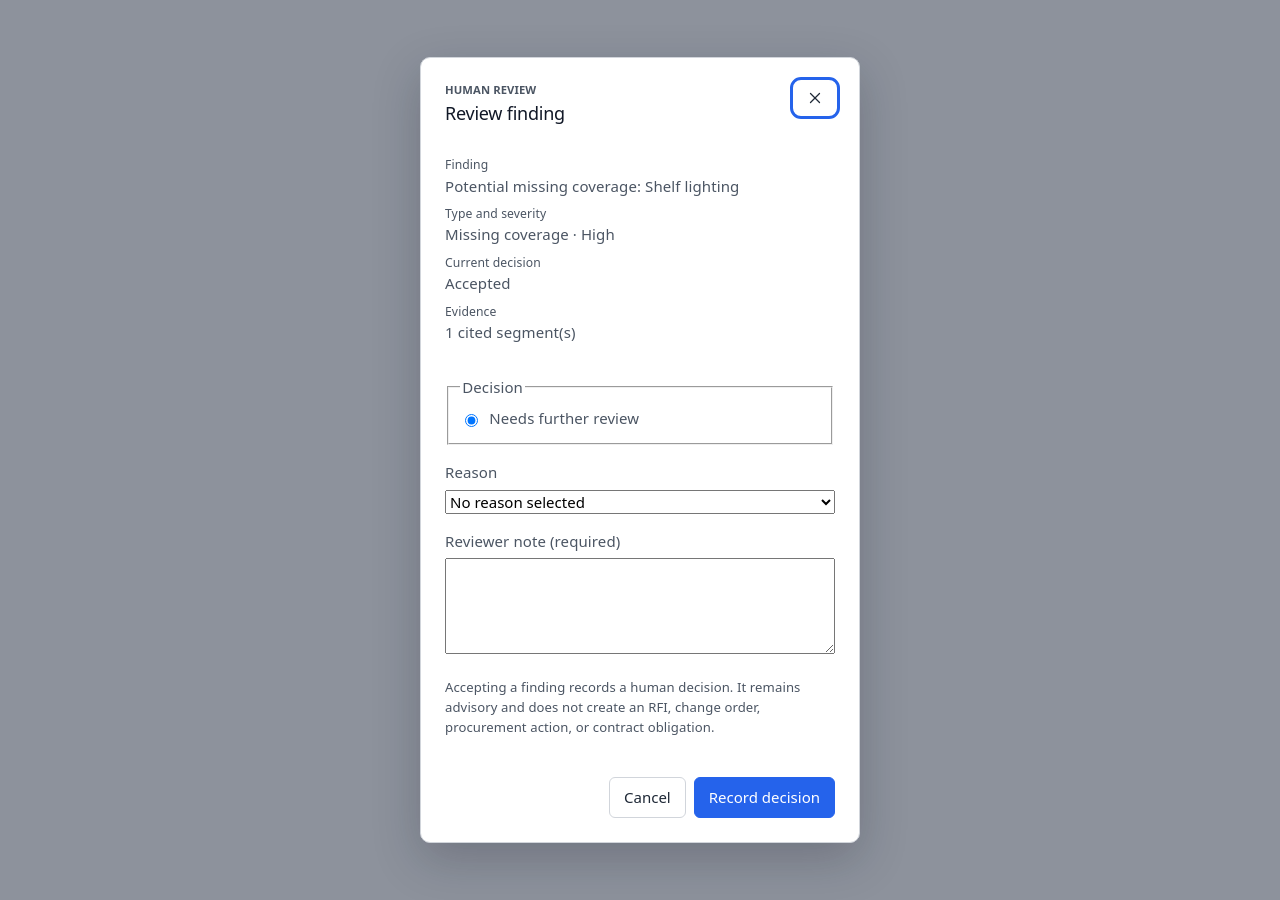
Test: ReviewFindingDialog › requires a note when reversing a settled decision and preserves input on failure
Click the button "Record decision": (764, 797) [694, 777, 835, 818]
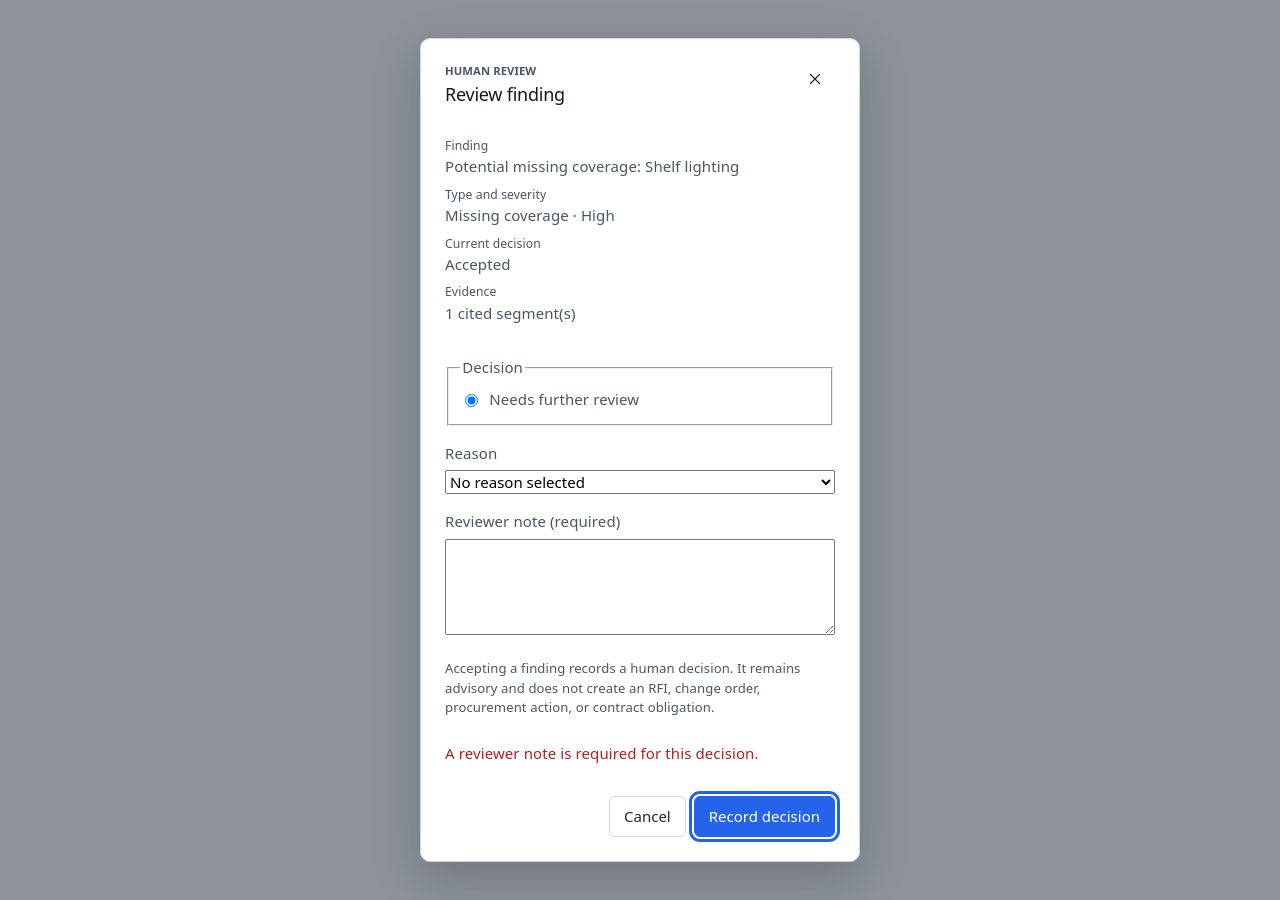
expect the message shows "note is required": met, box [445, 743, 759, 763]
In the text box labelled "Reviewer note (required)": (640, 587) [445, 539, 835, 635], type "Reopening for trade review."
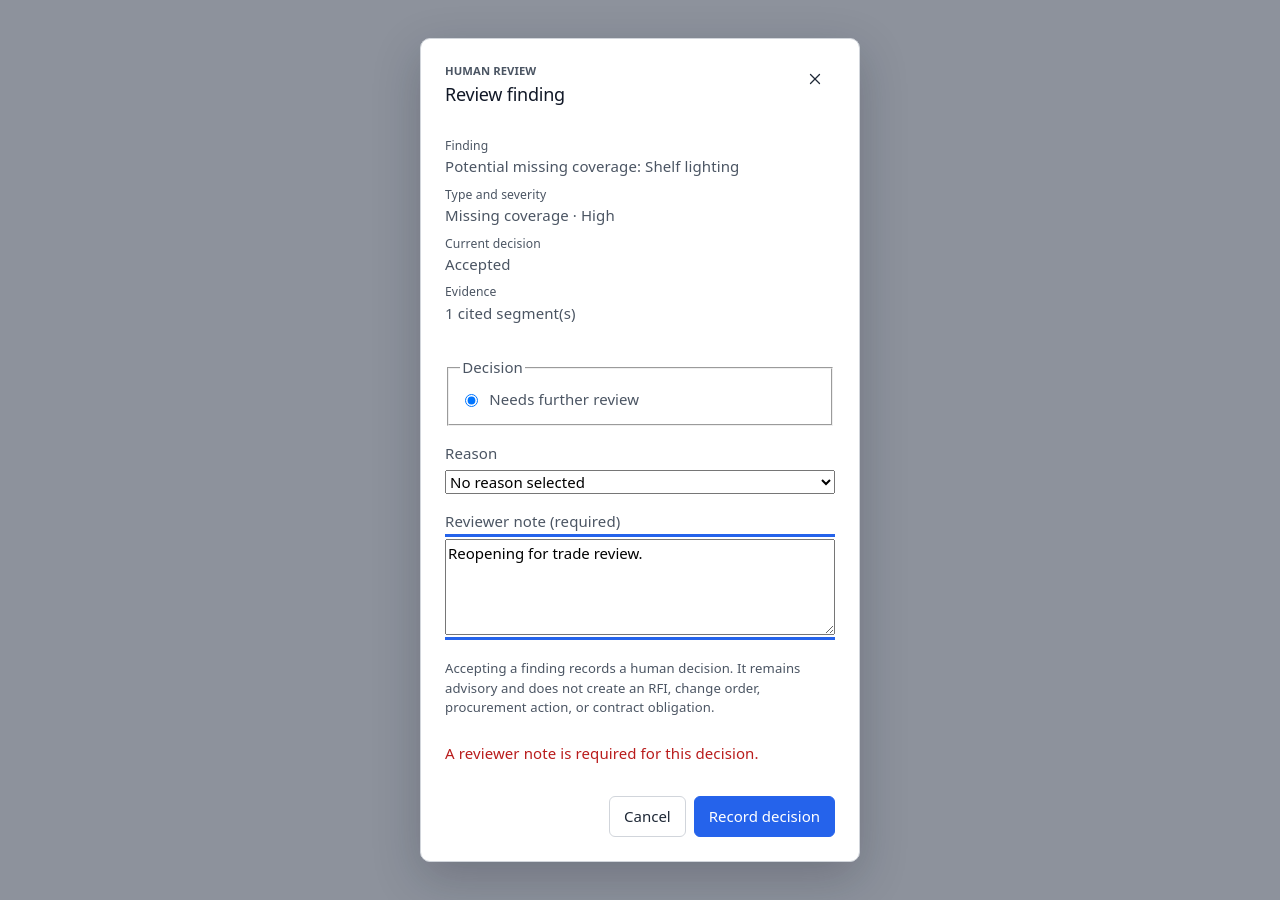
Click the button "Record decision": (764, 817) [694, 796, 835, 837]
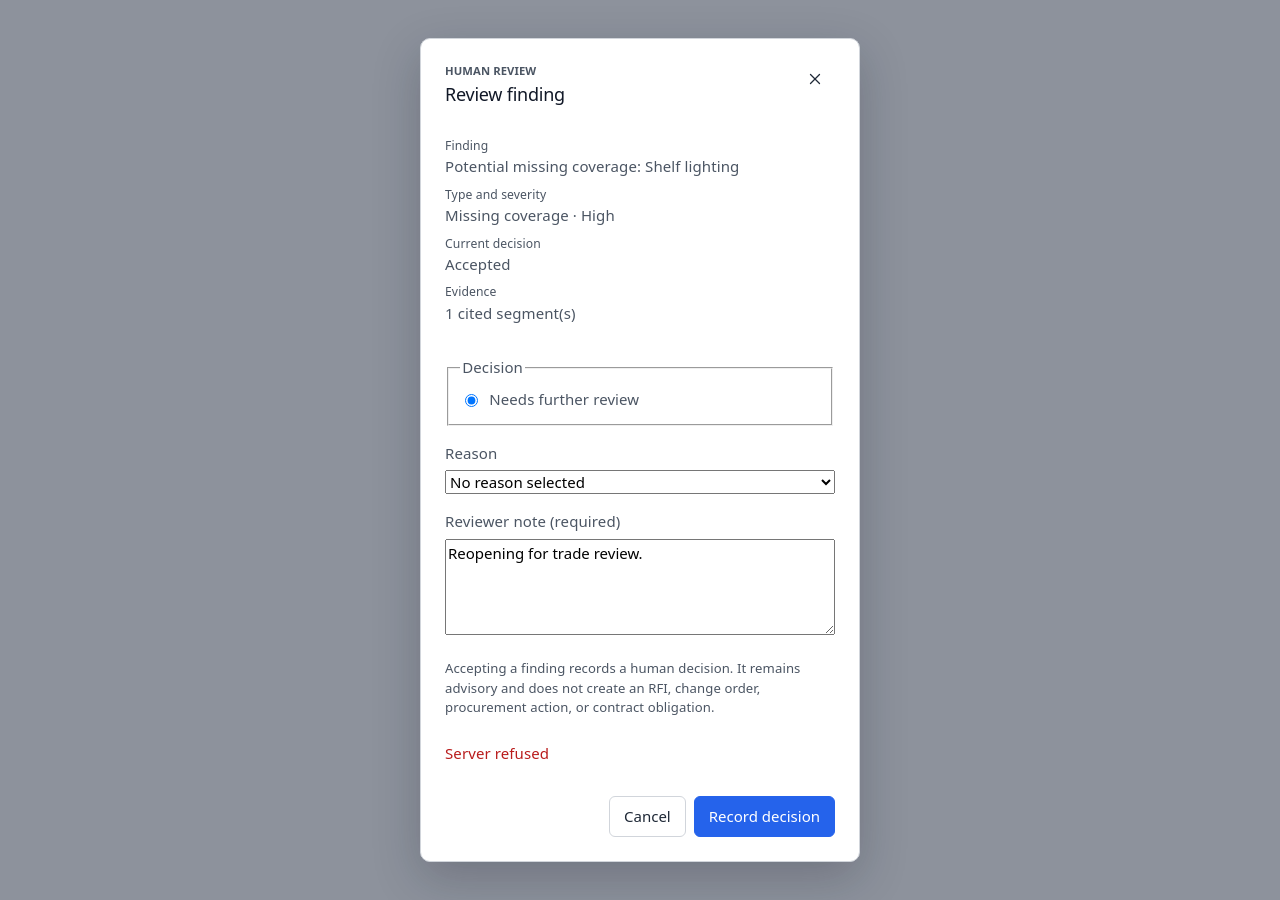
expect the message reads "Server refused": met, box [445, 743, 549, 763]
